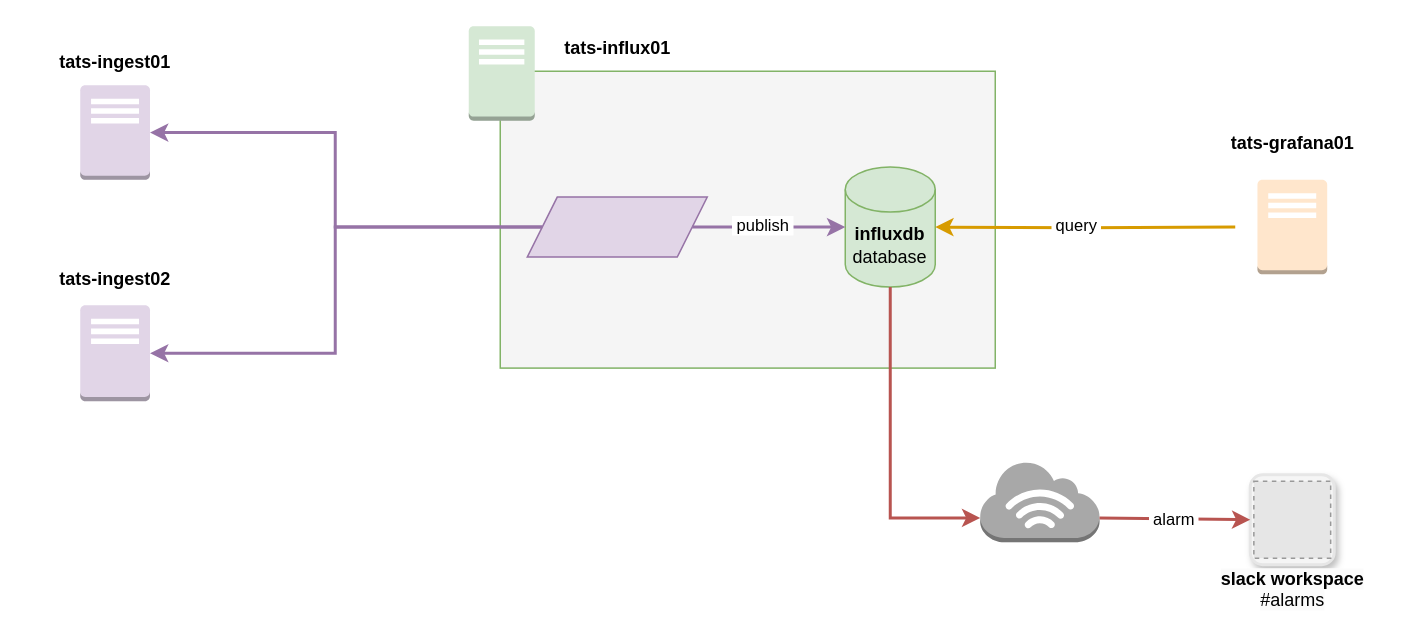
Image size: 1409x639. Some labels were removed from this diagram. Grey dashed boxes stand in for pictures. The centre of each missing label's shape, as x and y in pixels:
telegraf kafka consumer: (x=616, y=226)
WAN: (x=1039, y=501)
